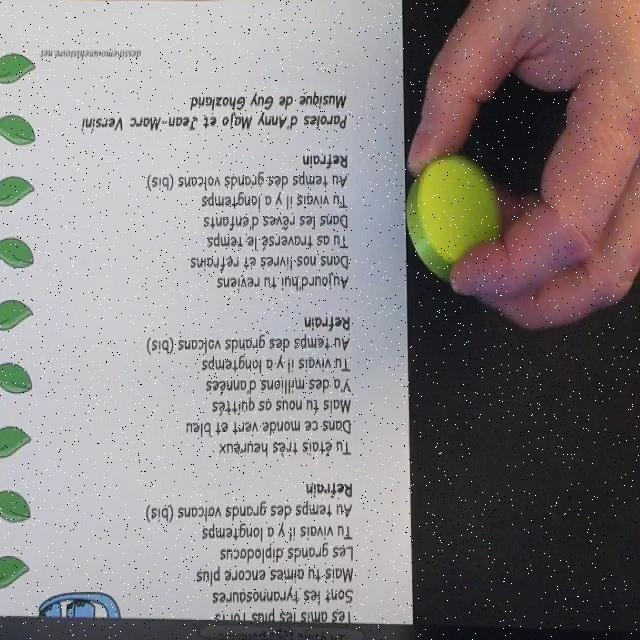round: (406, 153, 502, 287)
